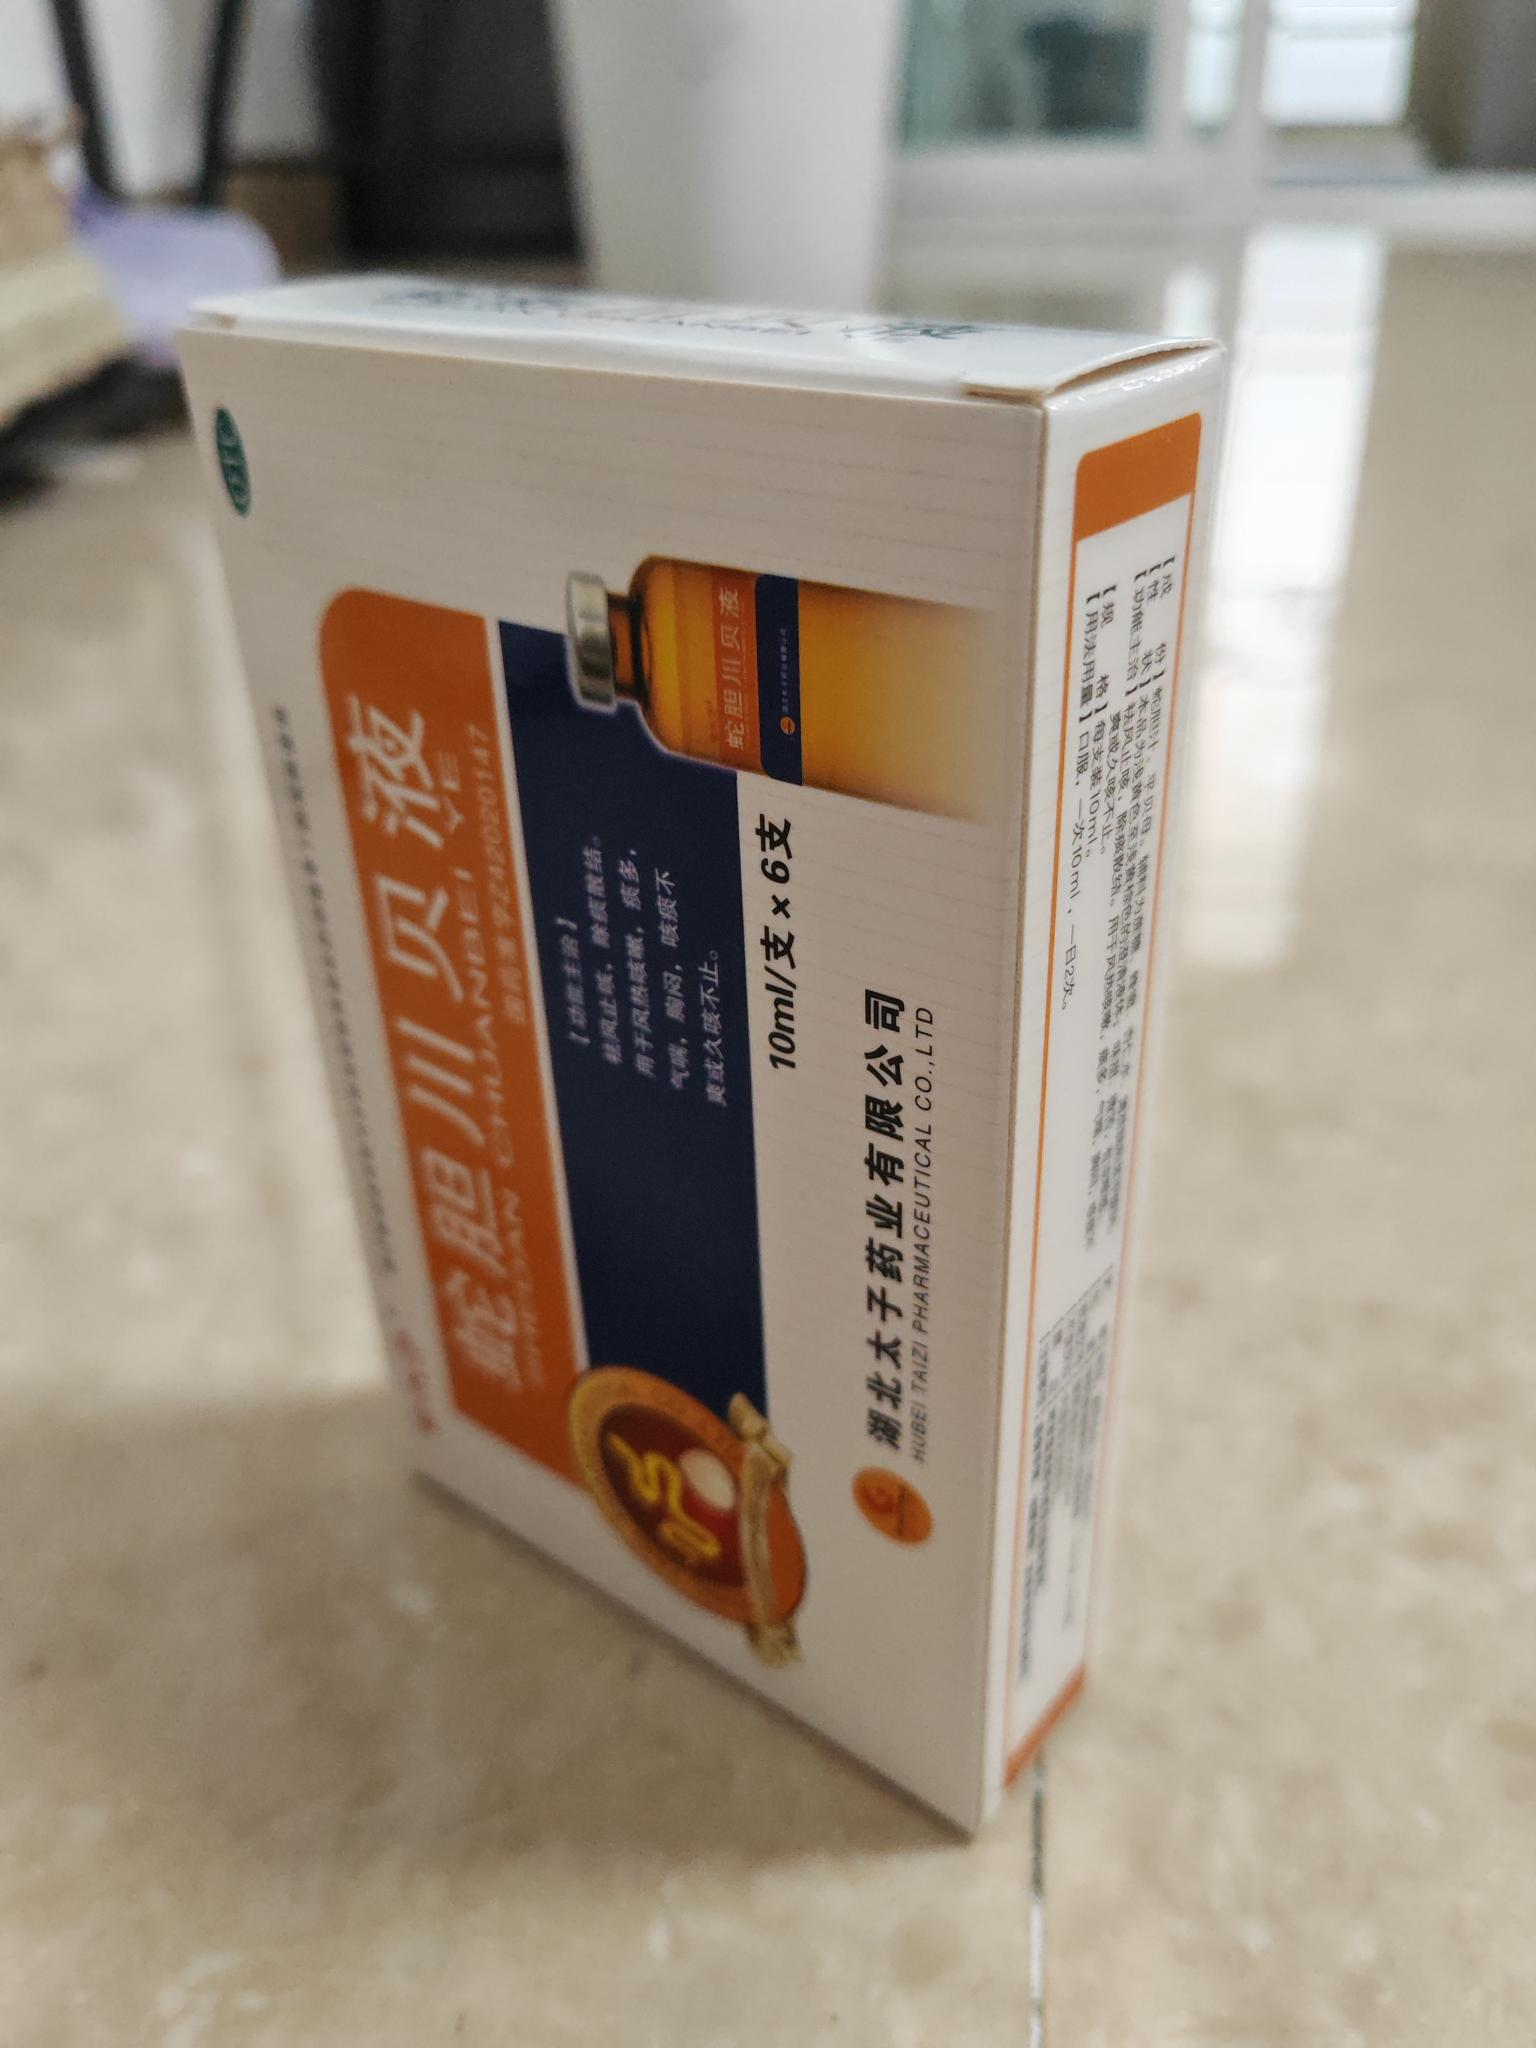Medicine5: (150, 258, 1242, 1858)
